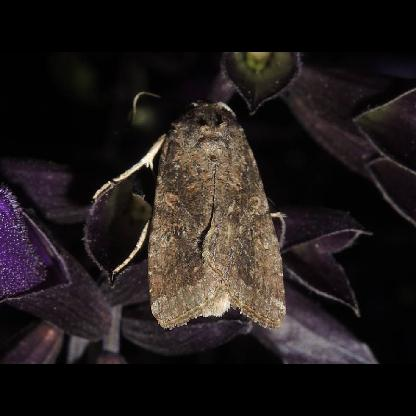Fall Armyworm Moth: (88, 88, 290, 334)
